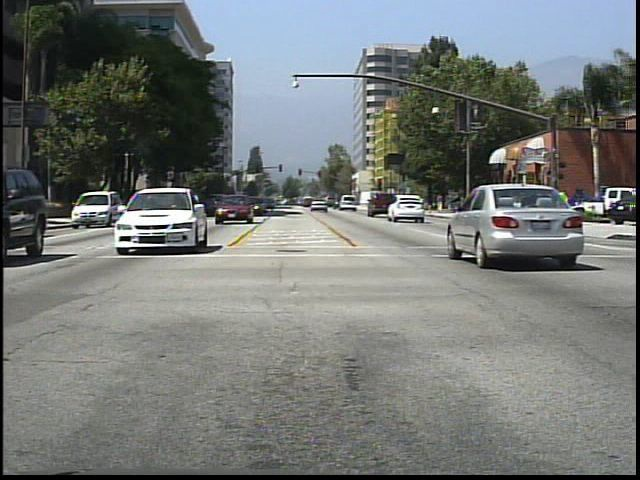person: (469, 191, 480, 221), (435, 191, 447, 214)
